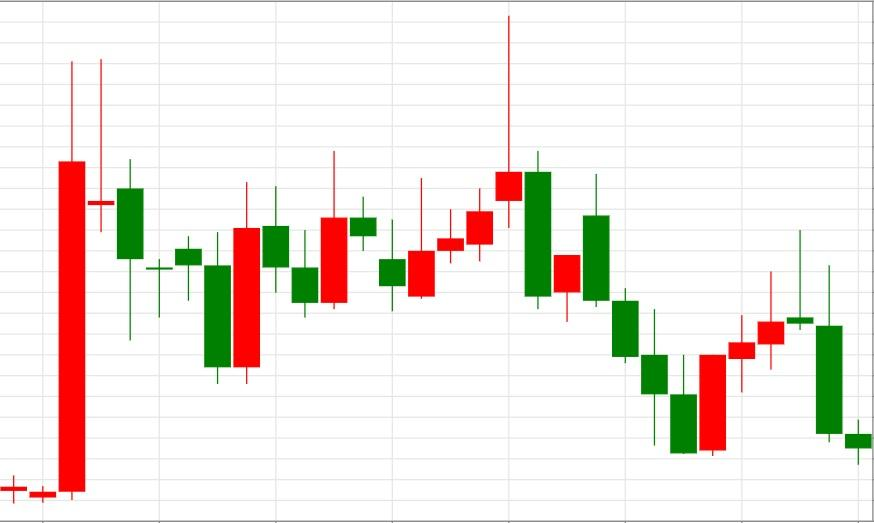bullish_engulfing_rise: (494, 15, 727, 456), (87, 58, 261, 385)
